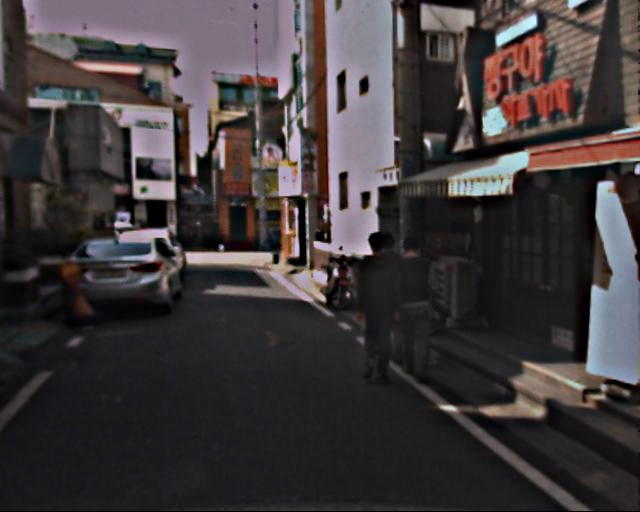person: (347, 235, 409, 386), (384, 237, 441, 376), (366, 229, 421, 363)
